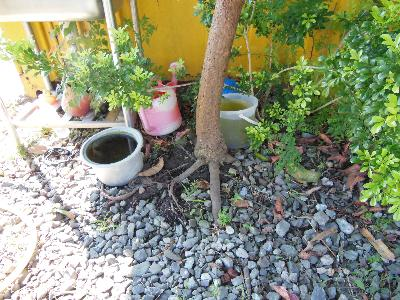bucket: (79, 125, 145, 186), (209, 93, 259, 149)
